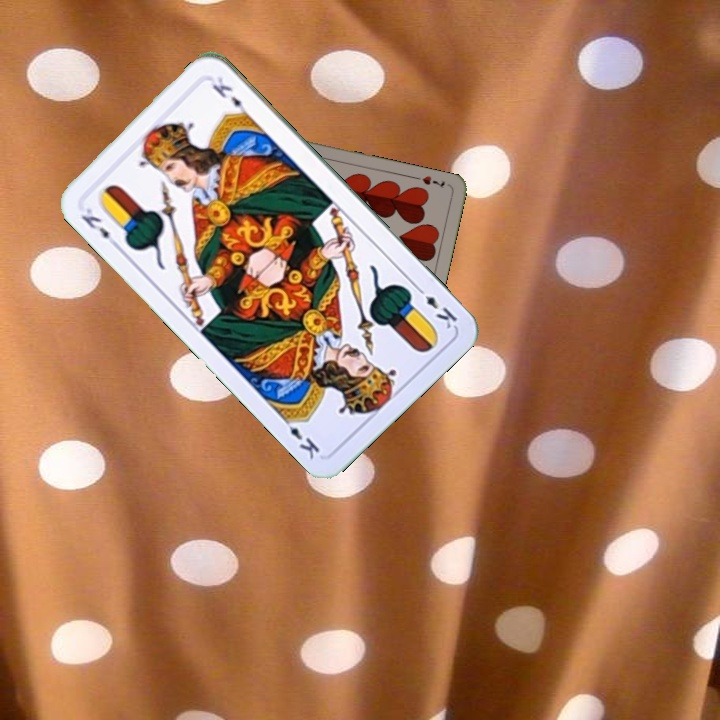EK: (411, 282, 460, 332), (75, 200, 121, 248)
H7: (418, 172, 448, 191)
